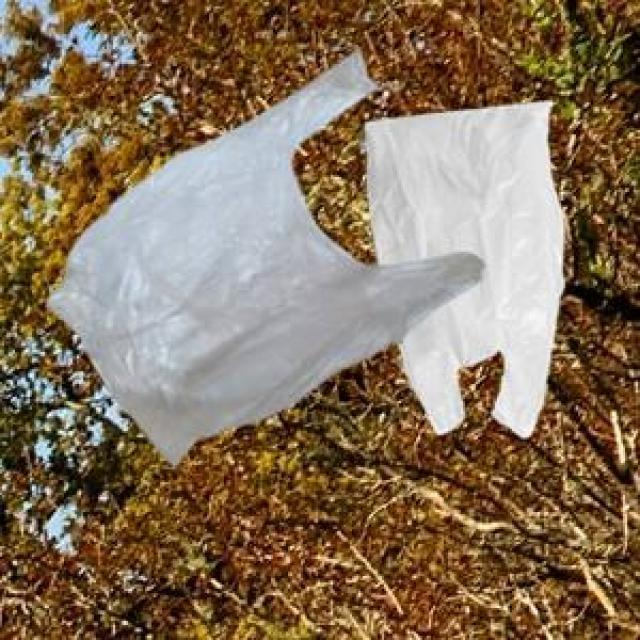waste: (50, 54, 484, 463), (368, 103, 564, 437)
